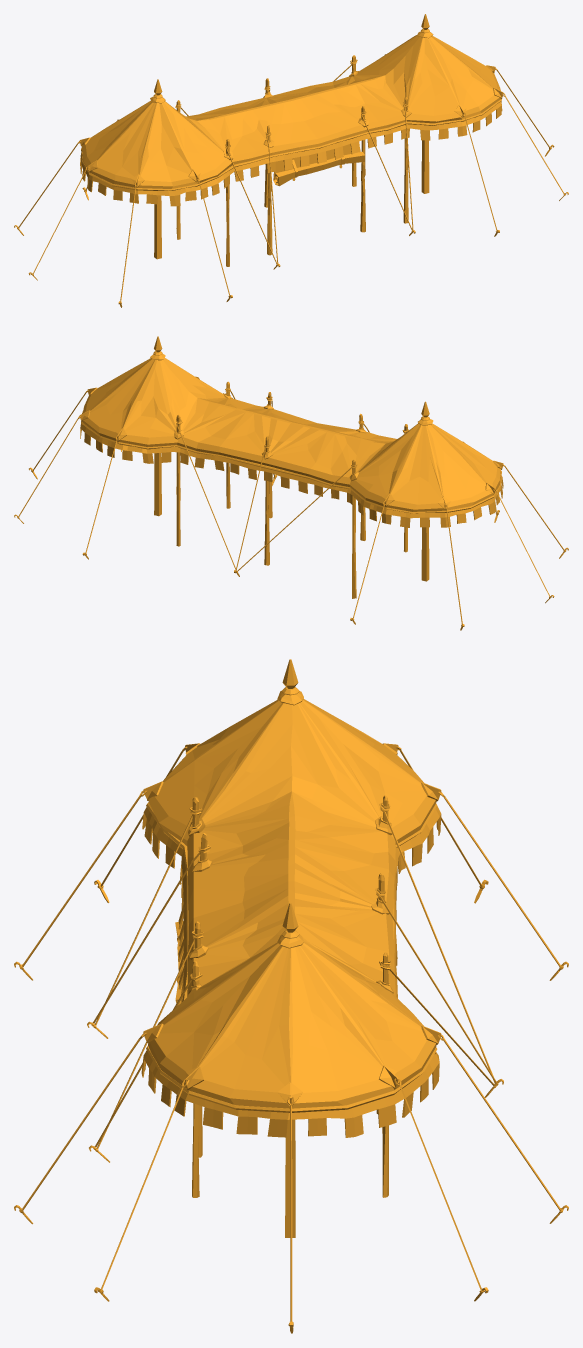
File: SM_Tent_Noble_Striped_Construct_B_Roof_Fantasy.fbx
3 renders of one model, top to bottom at view 1: azimuth 30°, elevation 25°; view 2: azimuth 150°, elevation 25°; view 3: azimuth 270°, elevation 25°, orthographic. The views are drawn at different scales.
Visible parts, largest first — view 1: tent-noble-striped-construct-b-roof-fantasy; view 2: tent-noble-striped-construct-b-roof-fantasy; view 3: tent-noble-striped-construct-b-roof-fantasy.
Boxes of the visible parts, box(x1,y1,x2,y2) form: tent-noble-striped-construct-b-roof-fantasy: box(14, 14, 568, 307); tent-noble-striped-construct-b-roof-fantasy: box(14, 336, 568, 630); tent-noble-striped-construct-b-roof-fantasy: box(14, 659, 568, 1333).
Size of the model in its own units: 16.33 by 5.64 by 8.01.
